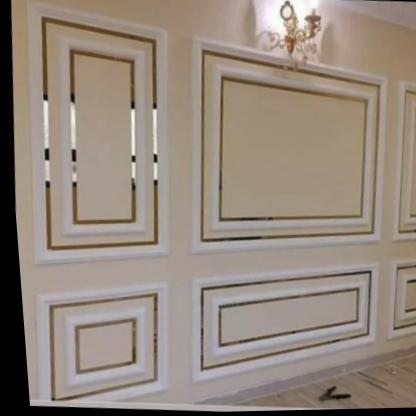Futec frame: (1, 9, 187, 403), (177, 60, 399, 363)
